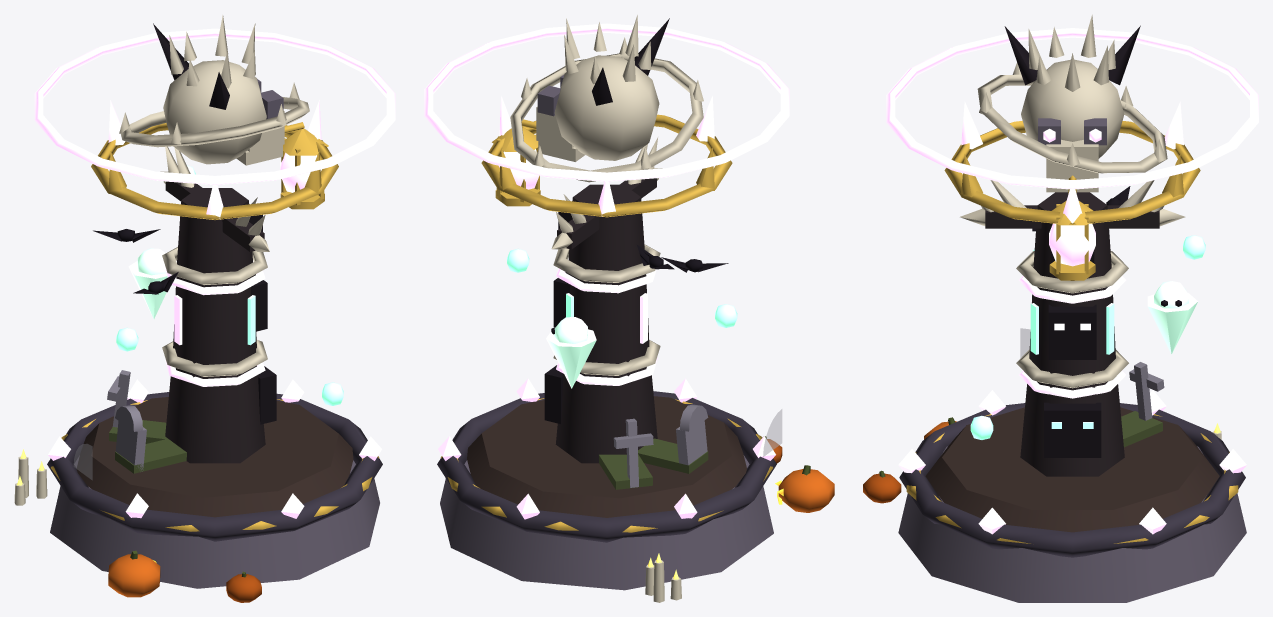
The model's file is tower_necromancer_soulLord_ultimate.glb.
3 renders of one model, left to right at view 1: azimuth 30°, elevation 25°; view 2: azimuth 150°, elevation 25°; view 3: azimuth 270°, elevation 25°, orthographic. The views are drawn at different scales.
Parts seen in each view (by area): view 1: grave_soil, base, base_rim, ult_halo, pole_0, skull_cranium, pole_1, pole_2, ult_crown_band, bone_orbit, deco_hw_jack_body, bone_ring_1 (+20 smaller); view 2: grave_soil, base, base_rim, ult_halo, skull_cranium, pole_0, pole_1, pole_2, ult_crown_band, bone_orbit, deco_hw_jack_body, bone_ring_1 (+19 smaller); view 3: grave_soil, base, base_rim, ult_halo, skull_cranium, pole_0, ult_crown_band, bone_orbit, pole_1, pole_face_0, pole_face_1, pole_2 (+18 smaller).
Part boxes in pixels (x1,y1,x2,y2): grave_soil: (76,397,353,517); base: (50,455,379,588); base_rim: (47,392,382,541); ult_halo: (34,28,395,185); pole_0: (165,365,265,463); skull_cranium: (163,60,266,164); pole_1: (173,261,256,364); pole_2: (177,188,252,273); ult_crown_band: (91,123,338,219); bone_orbit: (121,97,309,147); deco_hw_jack_body: (108,554,160,597); bone_ring_1: (162,247,267,285); grave_soil: (467,396,746,517); base: (440,455,773,590); base_rim: (437,391,776,542); ult_halo: (424,23,789,181); skull_cranium: (554,55,659,160); pole_0: (555,367,657,463); pole_1: (568,259,649,363); pole_2: (568,184,644,270); ult_crown_band: (481,114,732,217); bone_orbit: (510,53,703,182); deco_hw_jack_body: (778,469,834,512); bone_ring_1: (553,244,660,282); grave_soil: (925,407,1219,532); base: (898,446,1246,602); base_rim: (899,403,1245,557); ult_halo: (886,28,1258,189); skull_cranium: (1021,59,1124,158); pole_0: (1020,381,1124,476); ult_crown_band: (944,121,1200,224); bone_orbit: (977,74,1167,173); pole_1: (1029,270,1115,375); pole_face_0: (1044,402,1101,457); pole_face_1: (1048,304,1096,359); pole_2: (1033,192,1111,280).
Bounding box in the file's own units: 0.4395 × 0.634 × 0.4541.
